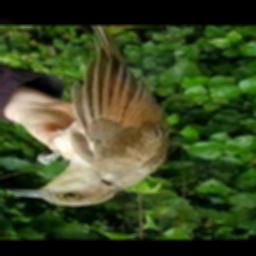Cuckoo: (6, 26, 170, 206)
